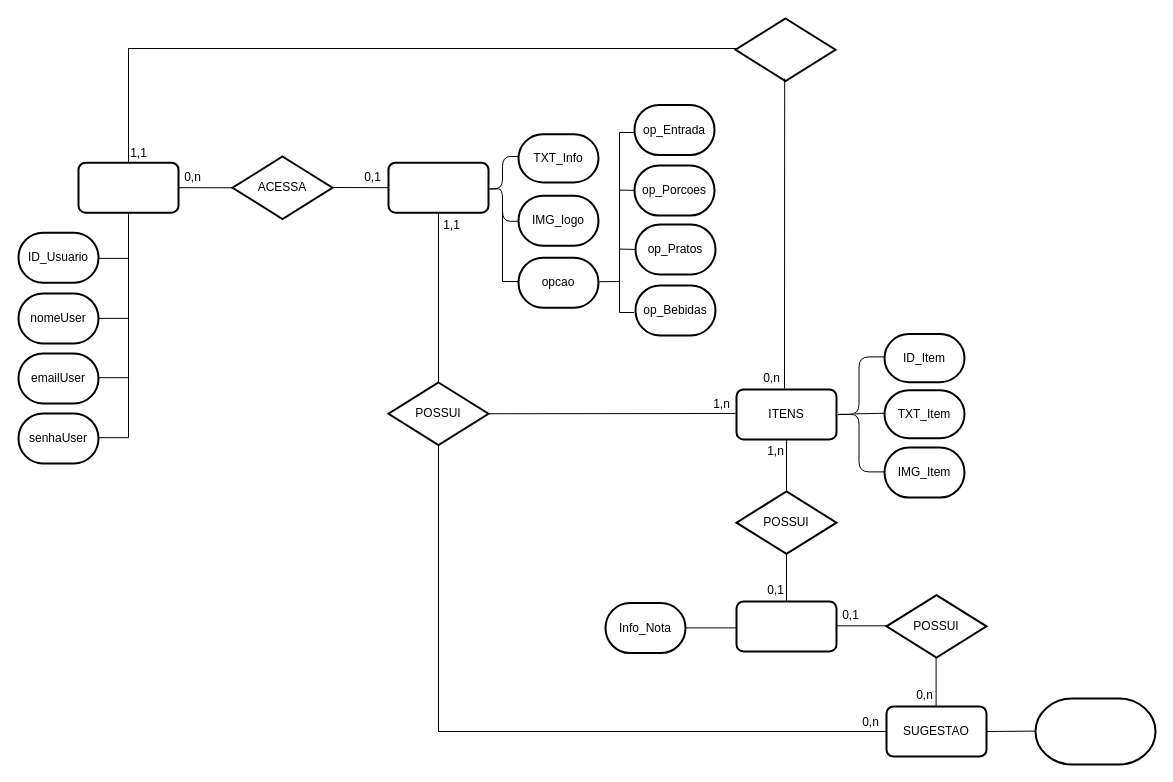
Some shapes in this 1173 by 782 pixel diagram are drawn without their labels. The shapes that lost their labels are listed below. From the top down, each one's centre as x and y in pixels, then its label:
At (x=785, y=49): "CRIAR".
At (x=128, y=187): "USUARIO".
At (x=438, y=187): "CARDAPIO".
At (x=786, y=626): "AVALIACAO".
At (x=1095, y=731): "TXT_Comentario".
